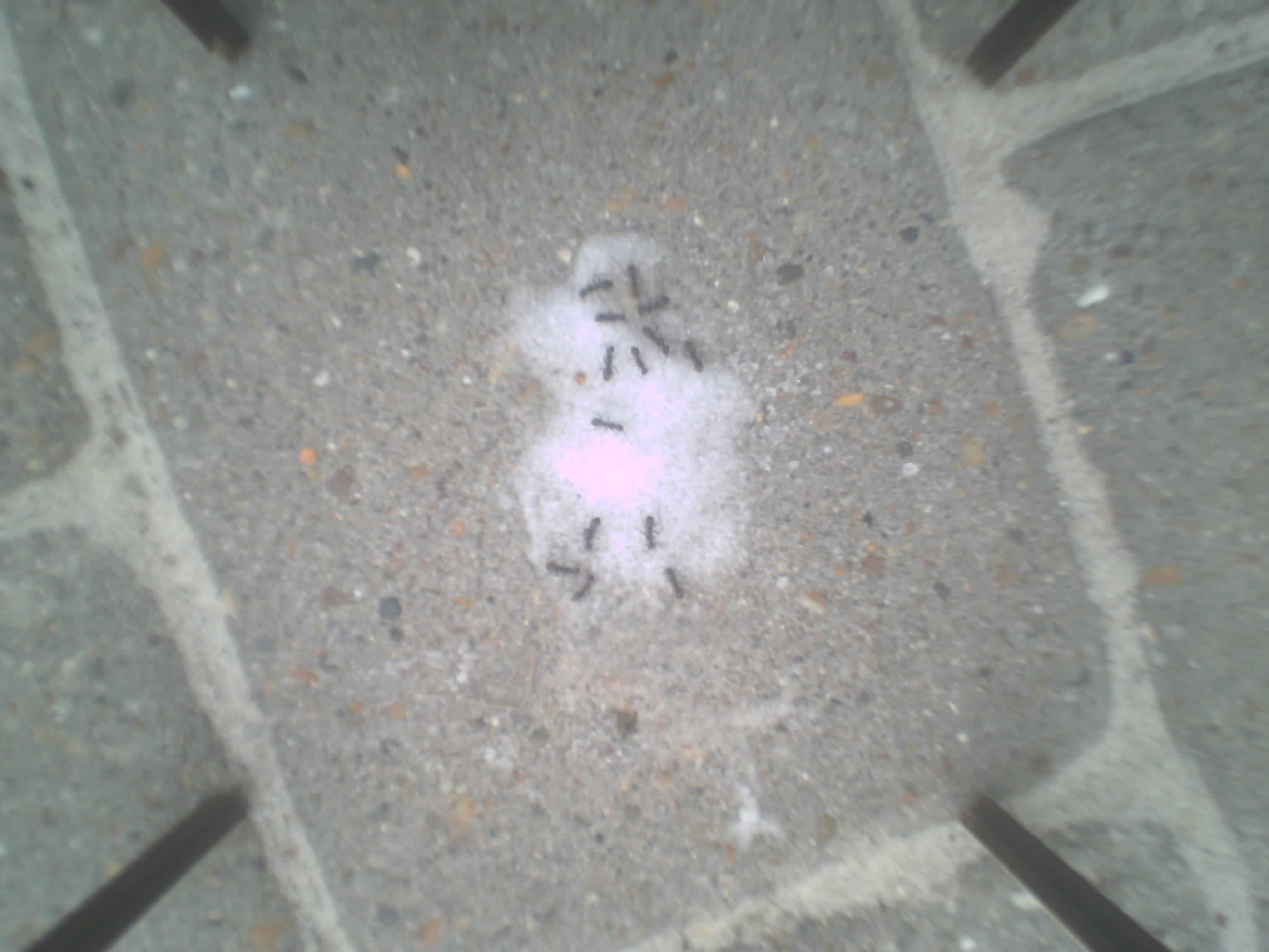Ant: (641, 325, 672, 357), (579, 279, 615, 300), (685, 340, 706, 373), (572, 575, 597, 602), (638, 294, 671, 314), (665, 567, 684, 600), (583, 518, 602, 551), (629, 263, 643, 305), (633, 343, 650, 377), (601, 345, 616, 383), (591, 417, 625, 433), (643, 516, 659, 550), (593, 310, 627, 326), (547, 560, 581, 576)
